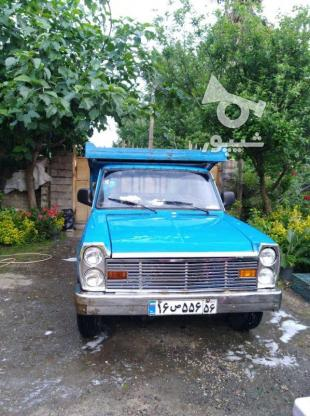car: (147, 298, 218, 315)
